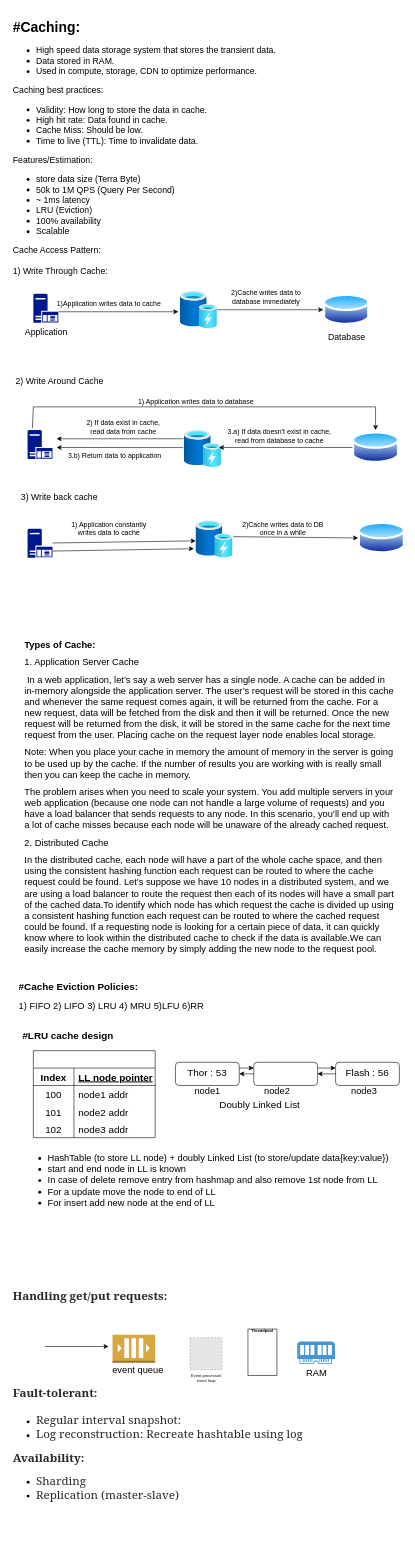
The diagram is 415 pixels wide and 1553 high, and some of its shapes have lost their labels. Grey dashed boxes stand in for pictures. Each missing label, with the box of its shape:
Cache: (180, 291, 217, 328)
HashTable: (33, 1050, 155, 1138)
Hulk : 71: (253, 1062, 318, 1085)
